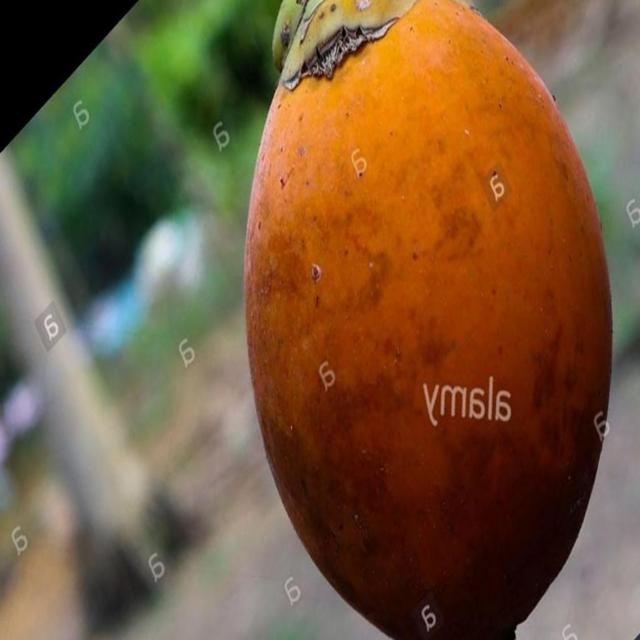good: (242, 0, 614, 639)
